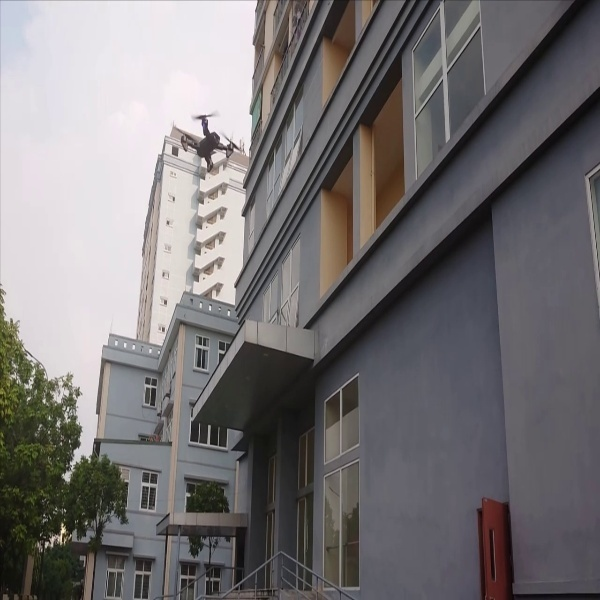drone: (174, 108, 247, 174)
